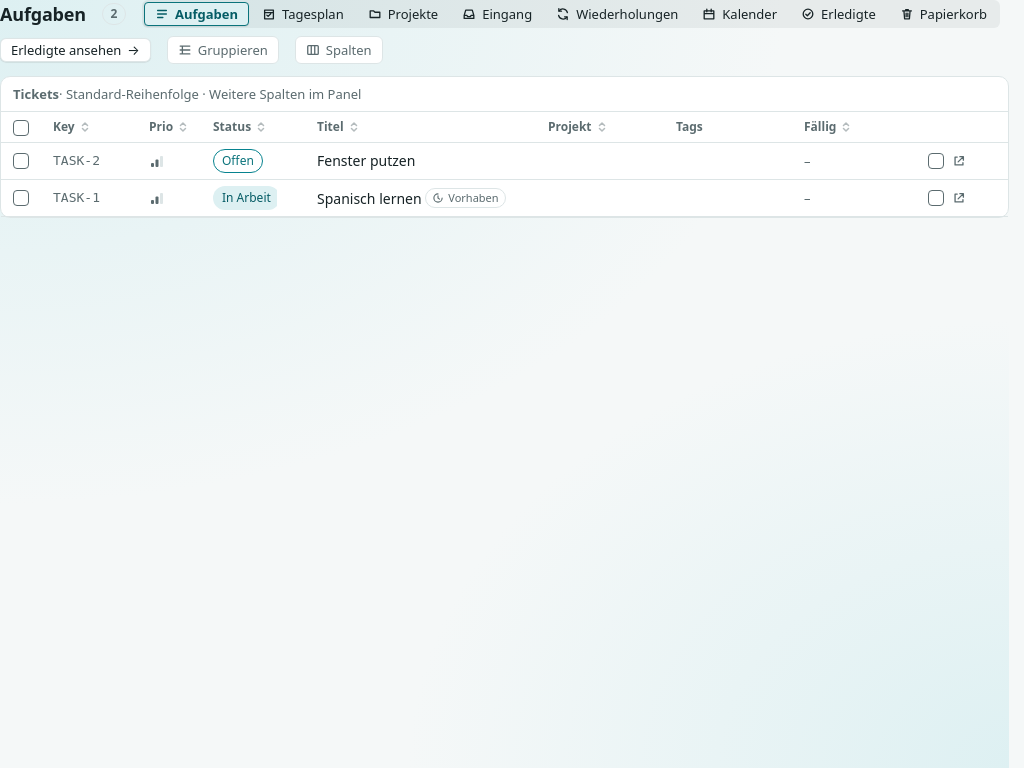
Test: "Aufgaben": check mark and status cell (VH-1) › completes it with "Abschließen", with "Rückgängig" in the flag
The width and height of the screenshot is (1024, 768).
Click the checkbox named "TASK-1 erledigt".
click(936, 198)  # box [928, 190, 944, 206]
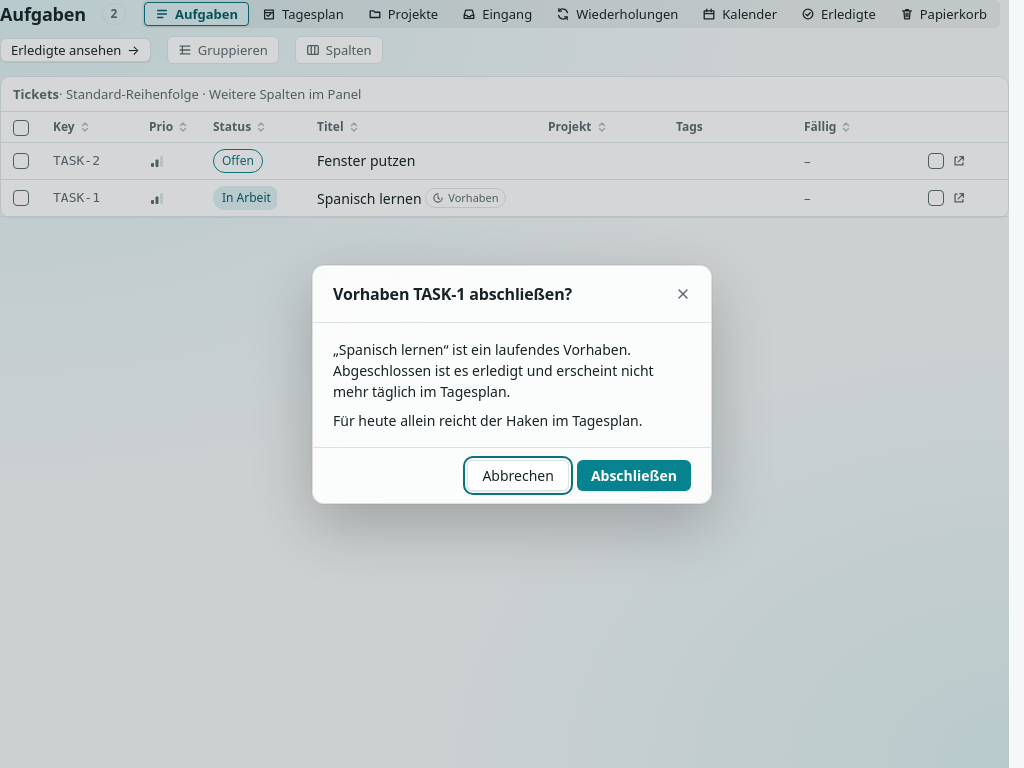
Click the button "Abschließen".
click(634, 475)  # box [577, 460, 691, 490]
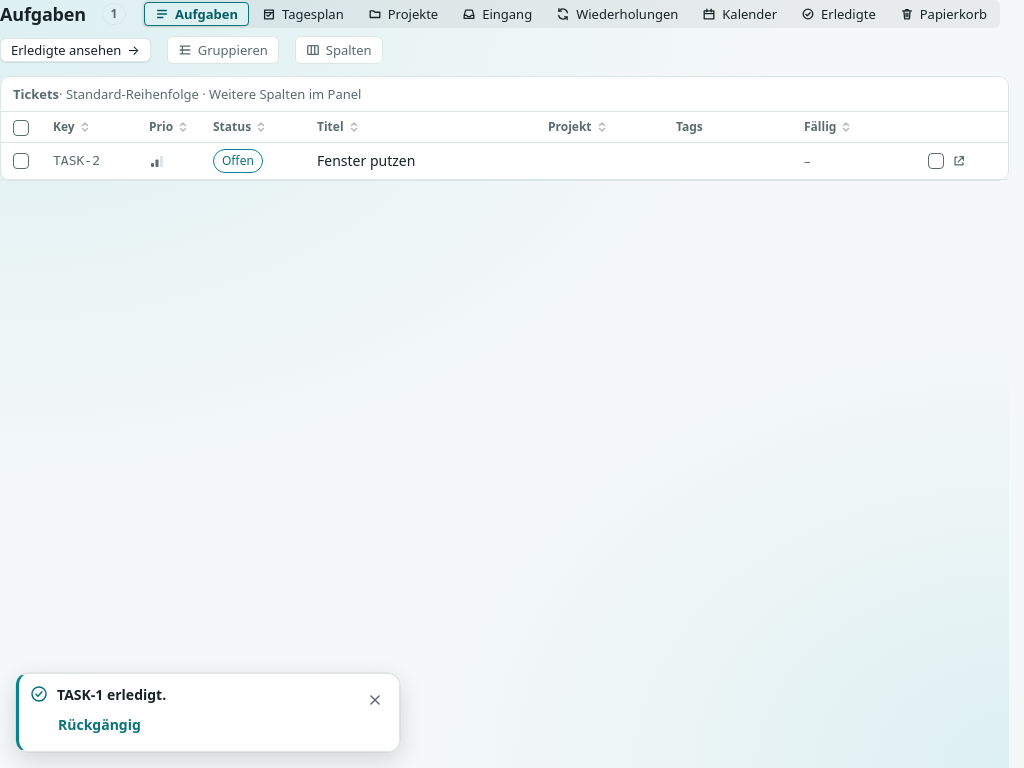
Result: the button "Rückgängig" is shown at [47, 708, 152, 741]
Result: the dialog "Vorhaben " is gone
